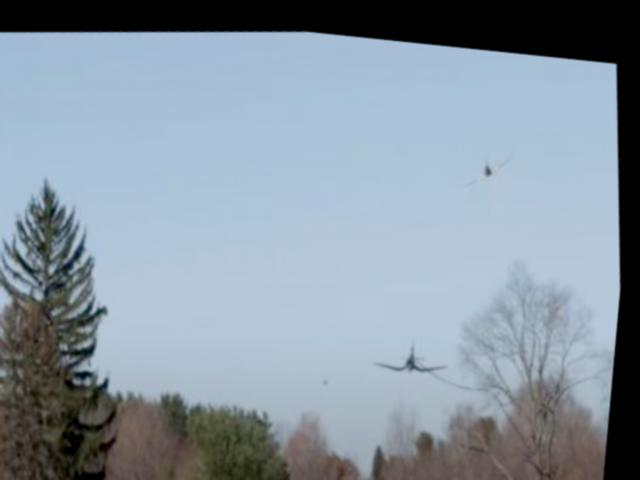uav: (373, 319, 460, 384), (457, 130, 521, 188)
